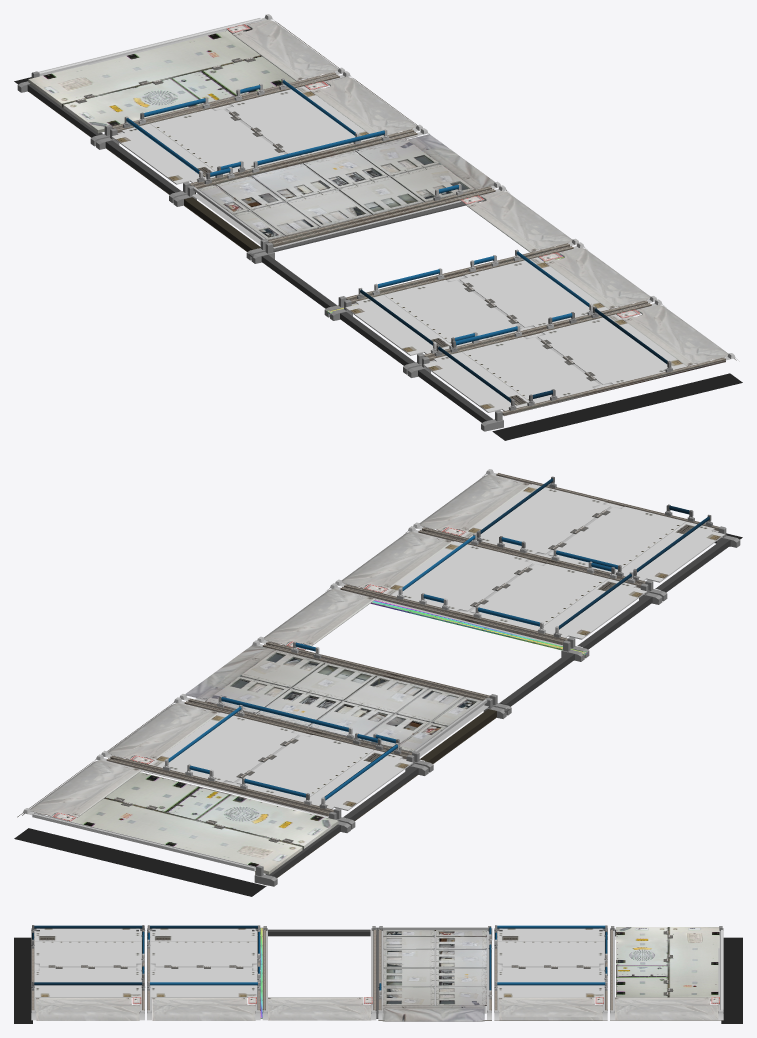
The model's file is US_Lab_DeckReduction.C.obj.
3 views of the same model, one above another, from view 1: azimuth 30°, elevation 25°; view 2: azimuth 150°, elevation 25°; view 3: azimuth 270°, elevation 25° (orthographic). The views are drawn at different scales.
Size of the model in its own units: 2.04 by 0.2031 by 6.72.
24 materials, 11 textured.
